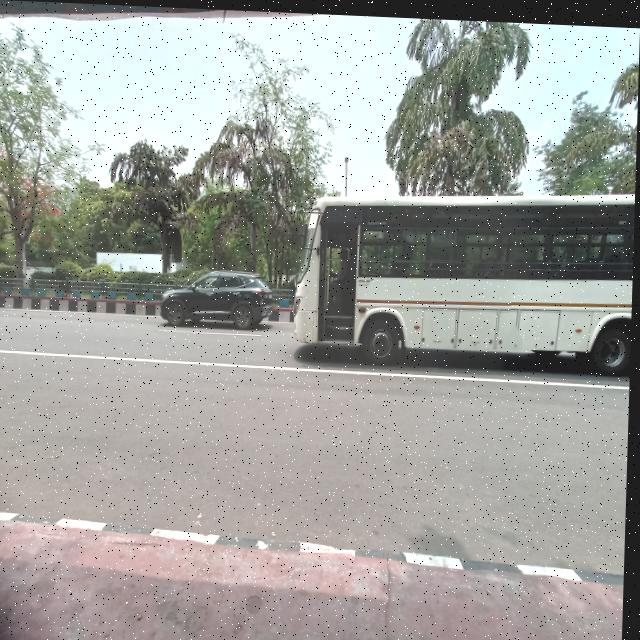bus: (295, 182, 636, 396)
car: (162, 259, 277, 341)
